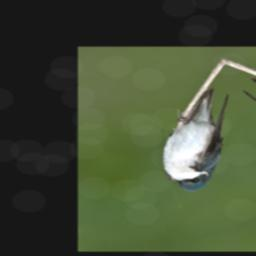Swallow: (137, 84, 256, 199)
